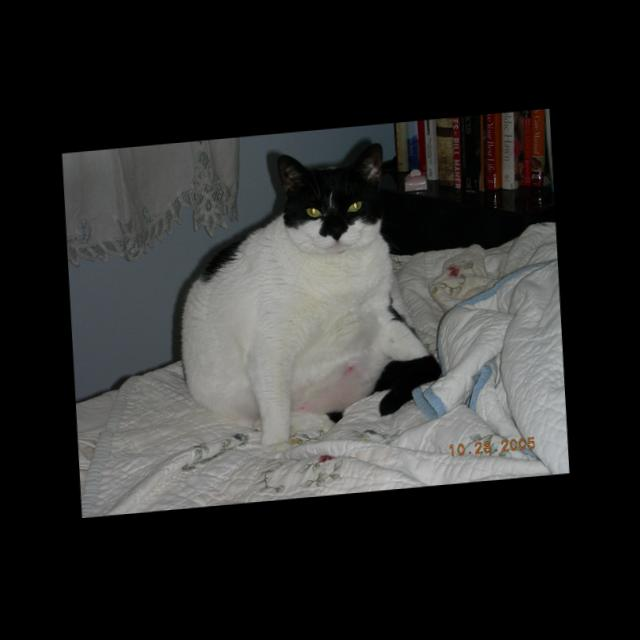animals: (281, 144, 383, 244)
